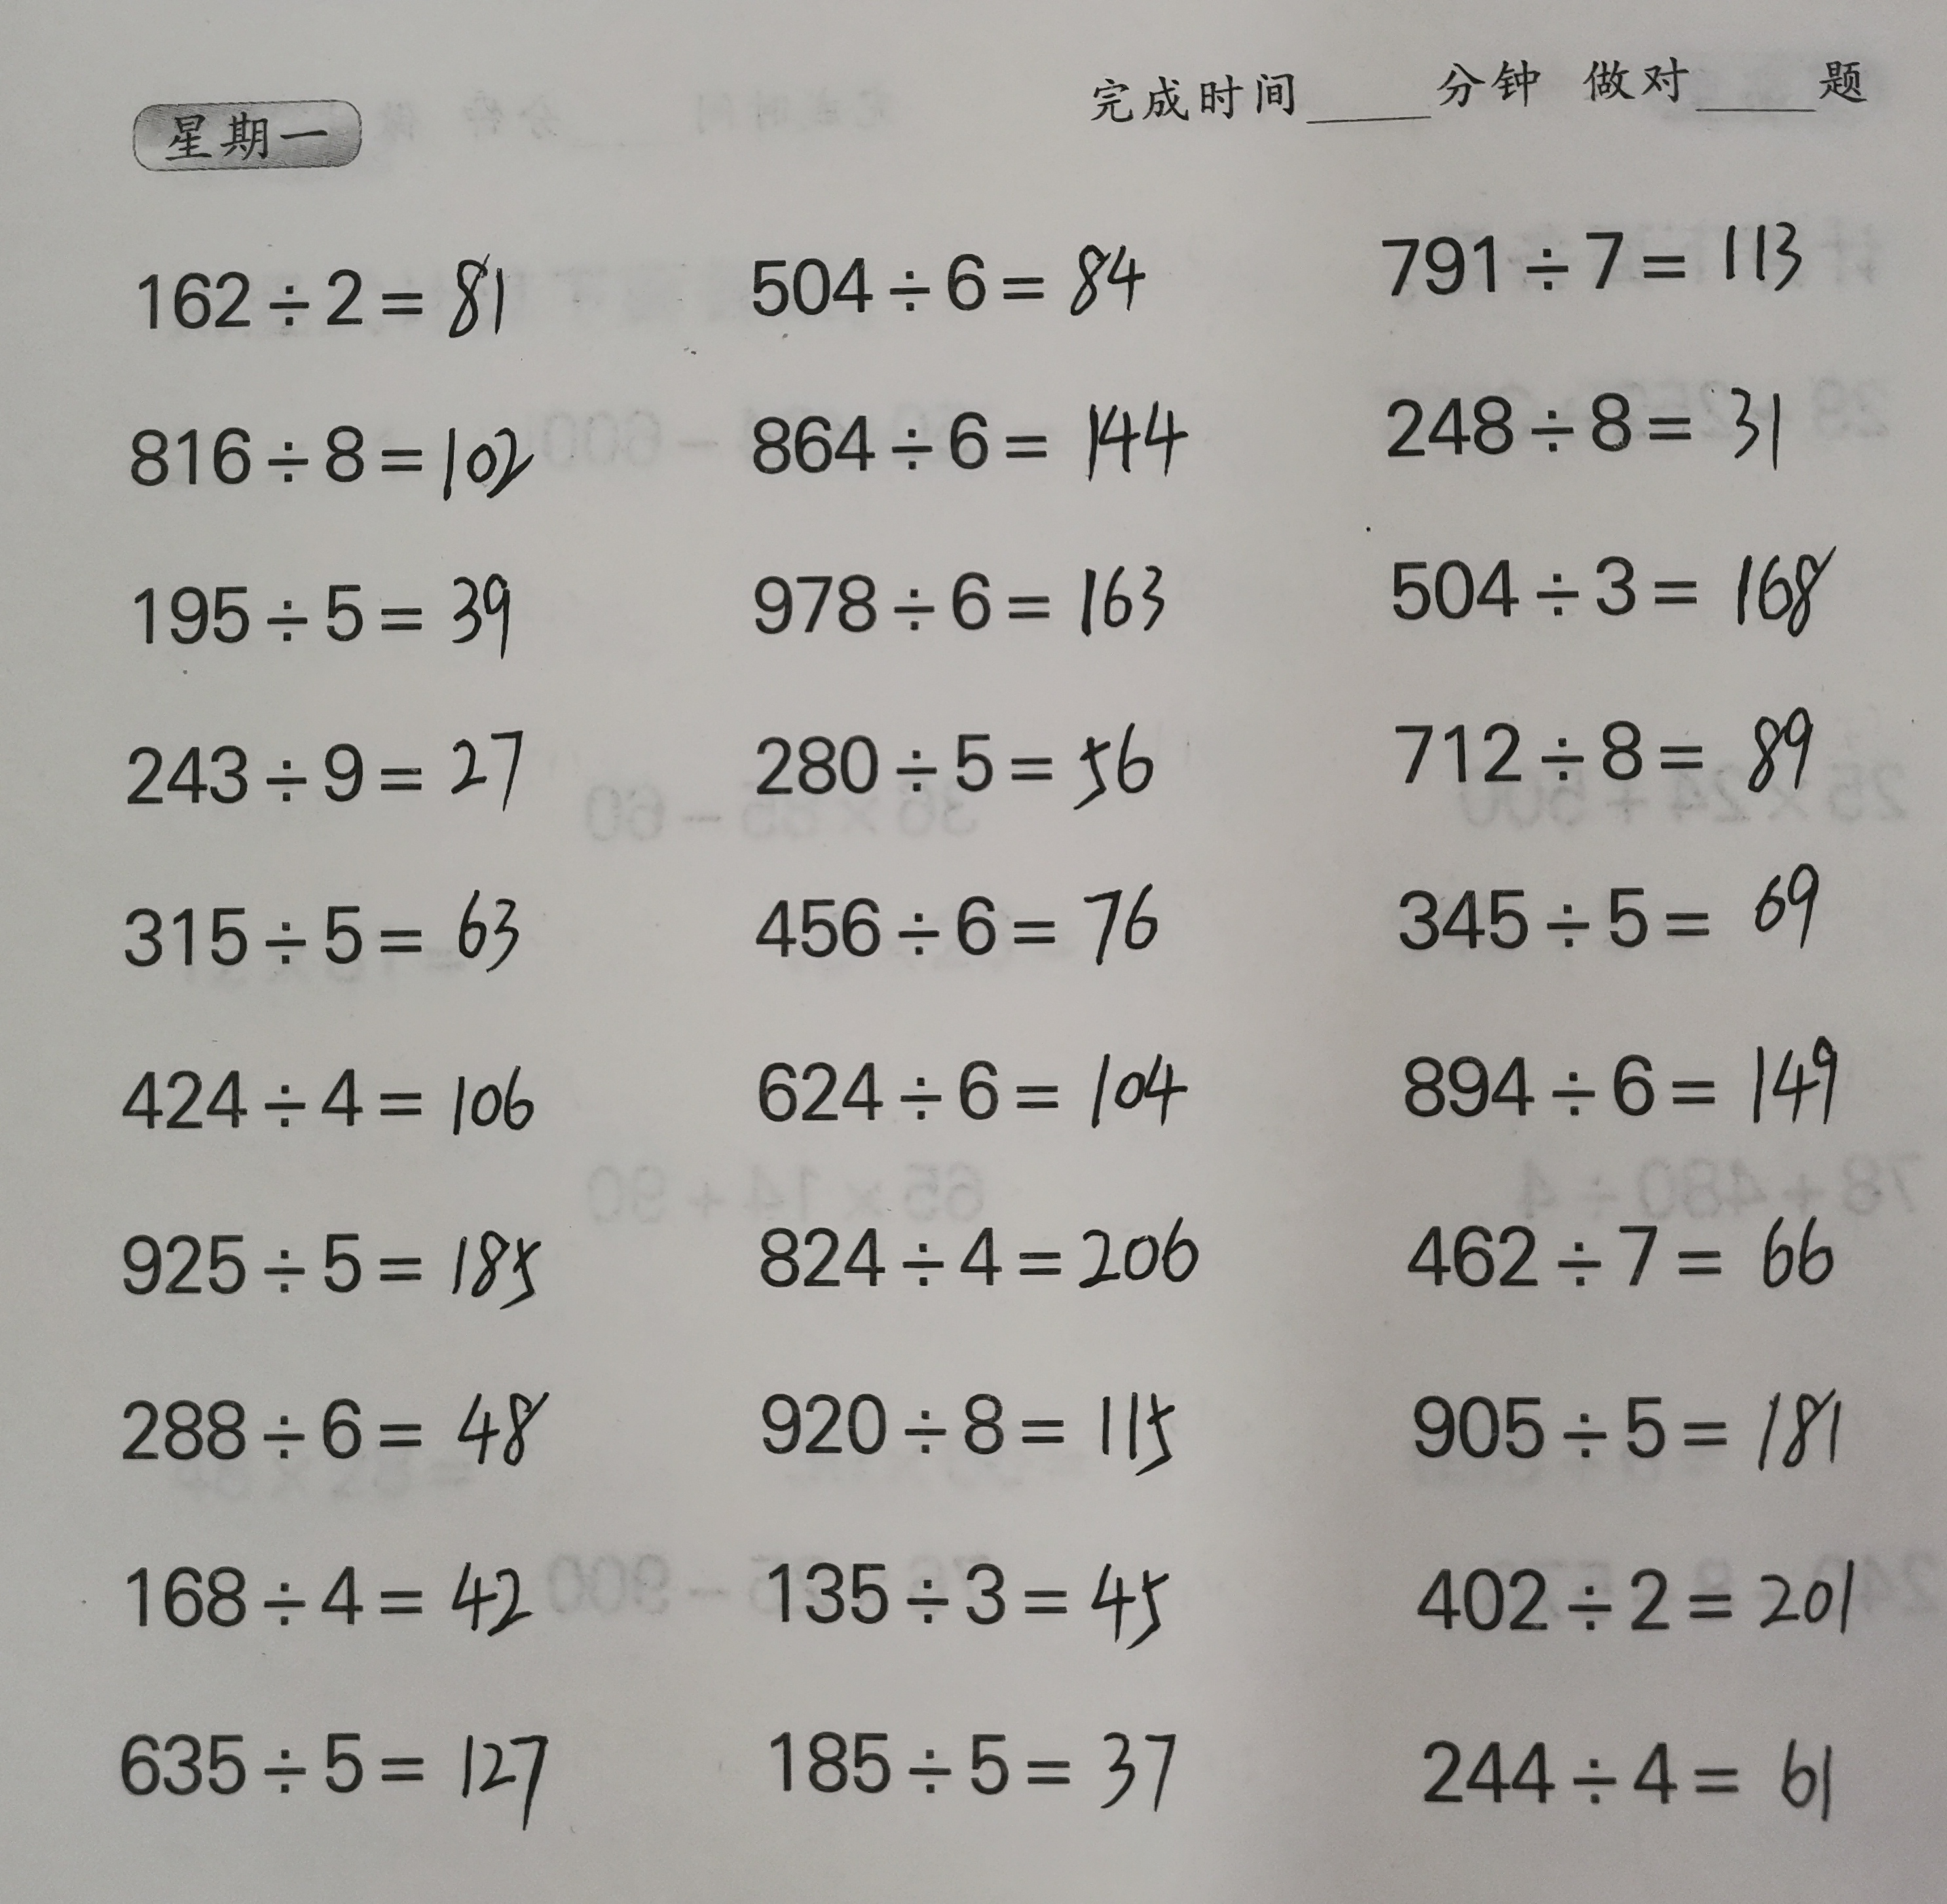equation: (1408, 1702, 1865, 1848), (748, 1702, 1213, 1843), (108, 1697, 576, 1836), (1390, 1013, 1874, 1146), (1387, 1177, 1853, 1313), (1364, 687, 1868, 813), (1373, 514, 1848, 645), (1403, 1357, 1870, 1487), (1401, 1531, 1879, 1658), (752, 1353, 1200, 1484), (96, 1036, 569, 1159), (89, 1363, 567, 1486), (112, 378, 546, 513), (103, 1531, 567, 1656), (1361, 349, 1806, 479), (747, 860, 1199, 985), (741, 532, 1199, 656), (741, 1536, 1179, 1665), (710, 375, 1207, 485), (1364, 185, 1834, 300), (745, 1030, 1195, 1149), (741, 1198, 1219, 1309), (734, 207, 1164, 331), (1375, 858, 1862, 966), (110, 542, 532, 666), (106, 863, 544, 978), (108, 223, 541, 338), (108, 1210, 557, 1316), (740, 708, 1183, 811), (113, 713, 536, 818)
